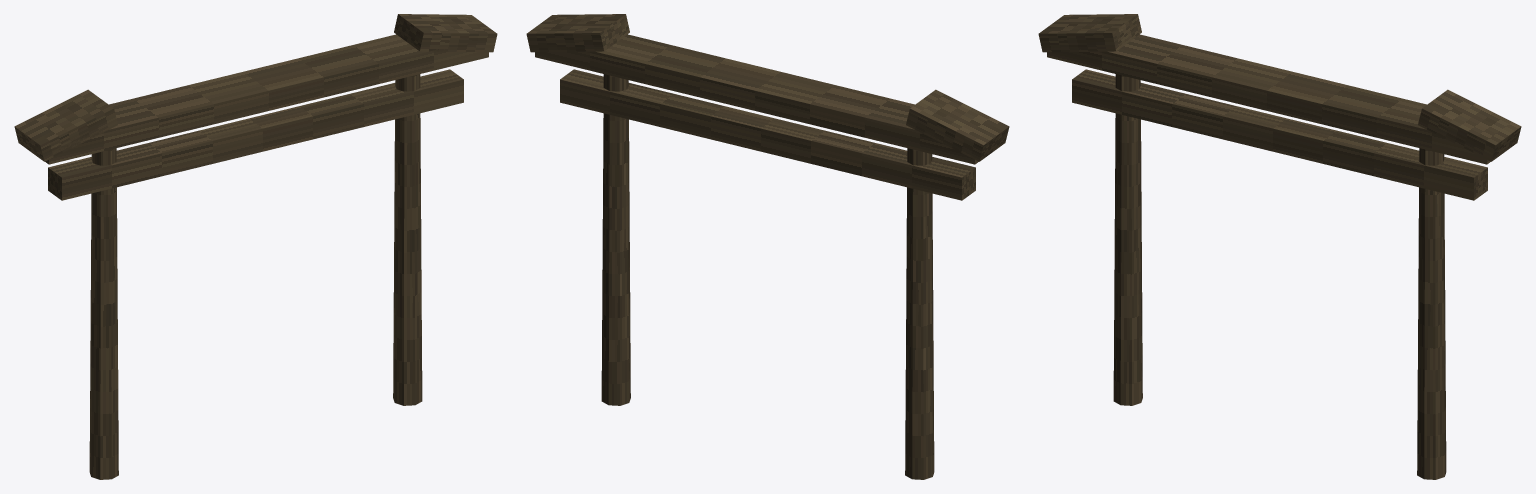
File: gate_45.glb
3 views of the same model, side by side, from view 1: azimuth 30°, elevation 25°; view 2: azimuth 150°, elevation 25°; view 3: azimuth 330°, elevation 25° (orthographic).
Visible parts, largest first — view 1: Roof, Lintel, Pillar.001, Pillar, RaisedEave, RaisedEave.001; view 2: Roof, Lintel, Pillar.001, Pillar, RaisedEave, RaisedEave.001; view 3: Roof, Lintel, Pillar, Pillar.001, RaisedEave.001, RaisedEave.
Boxes of the visible parts, left/top/right/bottom form: Roof: left=45, top=34, right=488, bottom=164; Lintel: left=48, top=69, right=463, bottom=200; Pillar.001: left=393, top=74, right=422, bottom=405; Pillar: left=89, top=148, right=118, bottom=479; RaisedEave: left=14, top=89, right=117, bottom=161; RaisedEave.001: left=394, top=14, right=497, bottom=52; Roof: left=535, top=34, right=978, bottom=164; Lintel: left=560, top=69, right=975, bottom=200; Pillar.001: left=601, top=74, right=630, bottom=405; Pillar: left=905, top=148, right=934, bottom=479; RaisedEave: left=906, top=89, right=1009, bottom=161; RaisedEave.001: left=526, top=14, right=629, bottom=52; Roof: left=1047, top=34, right=1490, bottom=164; Lintel: left=1072, top=69, right=1487, bottom=200; Pillar: left=1113, top=74, right=1142, bottom=405; Pillar.001: left=1417, top=148, right=1446, bottom=479; RaisedEave.001: left=1418, top=89, right=1521, bottom=161; RaisedEave: left=1038, top=14, right=1141, bottom=52.
Size of the model in its own units: 6.63 by 5.2 by 0.65.
Materials: 1 (1 with a texture image).
